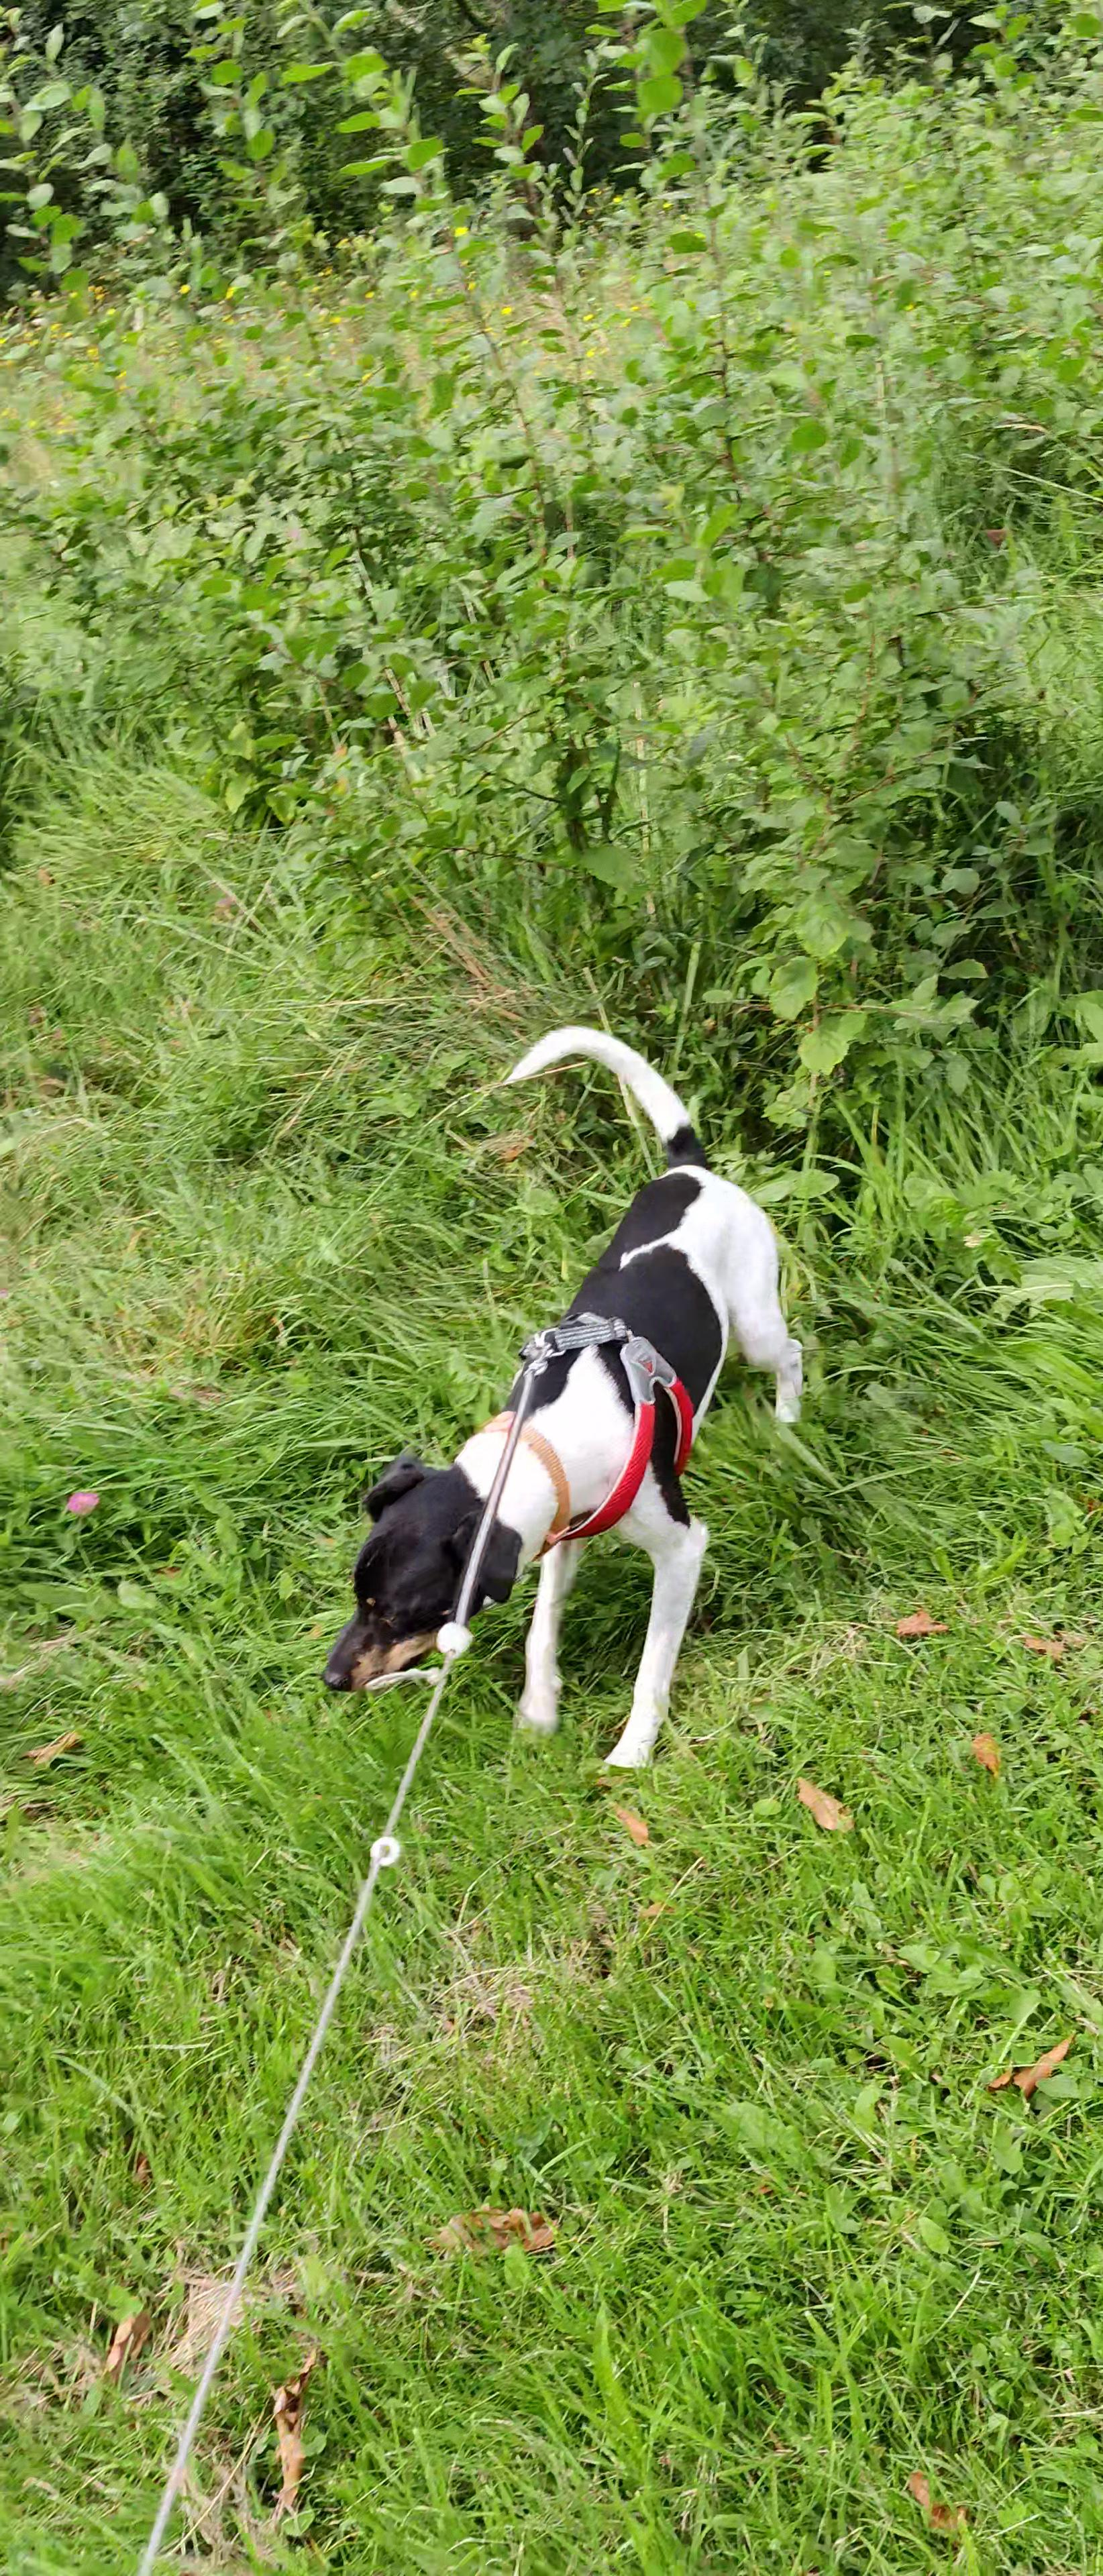Dog: (281, 1002, 840, 1792)
